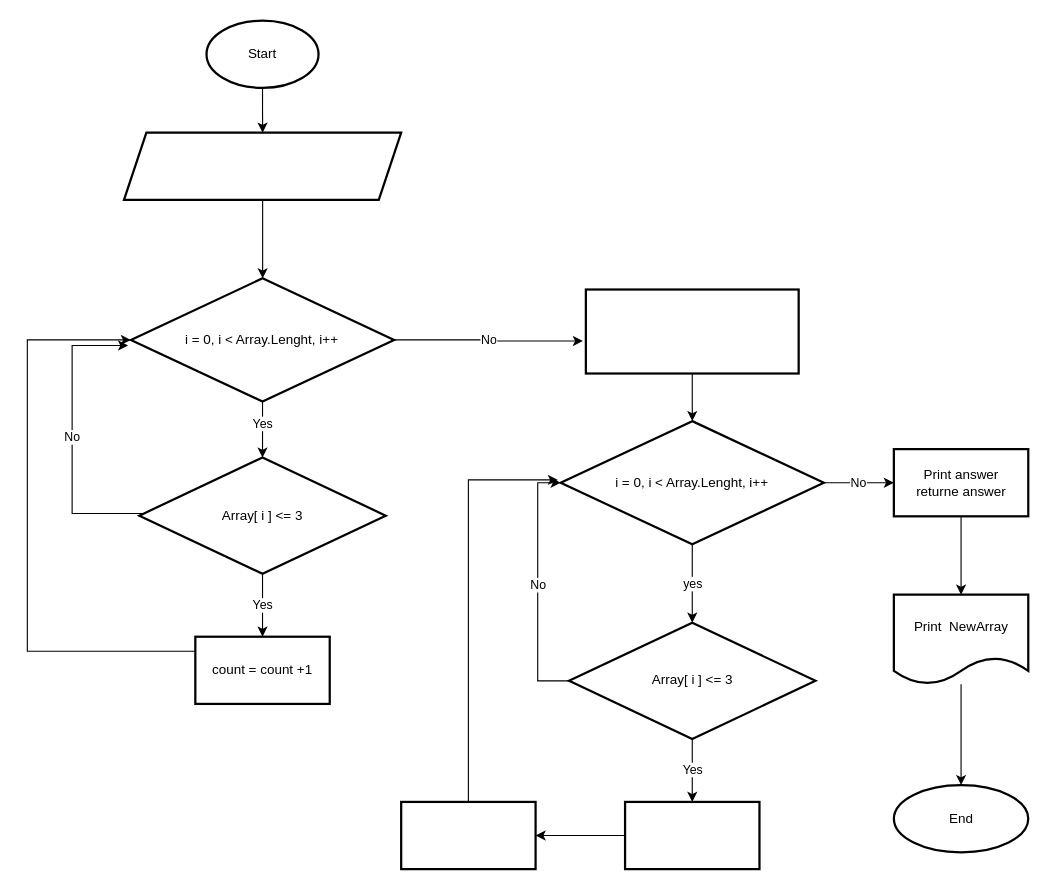
The diagram is 1049 pixels wide and 889 high, and some of its shapes have lost their labels. Each missing label, with the box of its shape:
answer[ i ] = Array[ i ]: (623, 800, 760, 870)
массив Array = [hello, 2, :-), g] x = 0; count = 0;: (122, 131, 402, 200)
функция NewArray(Array) пустой массив answer: (584, 288, 799, 374)
х+1: (400, 800, 536, 870)
